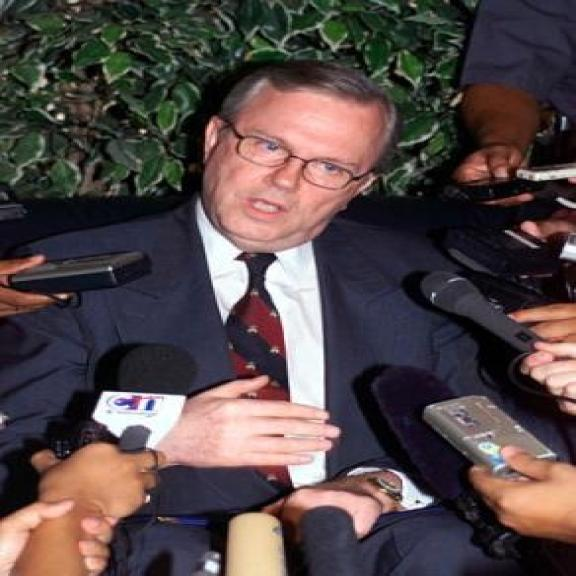face: (200, 76, 378, 246)
